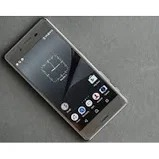sony: (4, 15, 128, 143)
